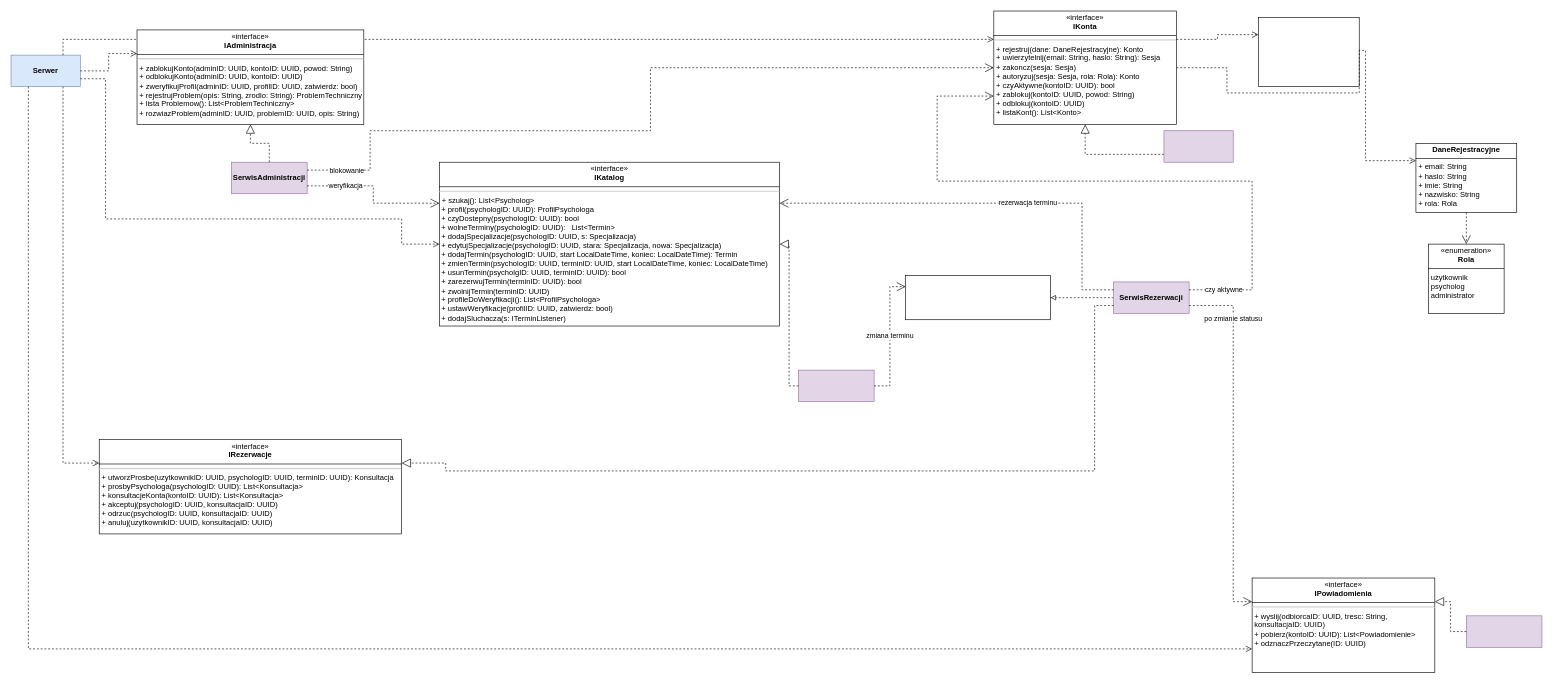
Some shapes in this 1553 by 684 pixel diagram are drawn without their labels. The shapes that lost their labels are listed below. From the top down, each one's box as (x1, y1, x2, y2) in pixels, then its label:
(1258, 17, 1359, 87): Sesja + token: String + kontoID: UUID + wygasa: LocalDateTime + czyWazna(): bool
(1163, 130, 1233, 162): SerwisKont
(905, 275, 1051, 320): «interface» ITerminListener + naTerminZmieniony(terminID: UUID)
(798, 369, 874, 402): SerwisKatalogu
(1466, 615, 1542, 647): SerwisPowiadomien
